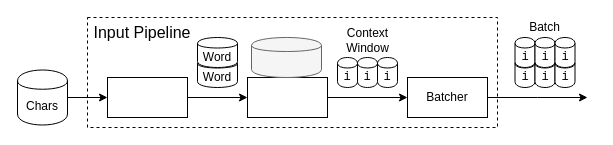
The diagram is 613 pixels wide and 145 high, and some of its shapes have lost their labels. Here are the shapes that lost their labels. From the top down, the box of each, then its label:
(250, 36, 322, 78): Vocabulary
(106, 76, 188, 118): Tokenizer
(246, 76, 328, 118): Filter
